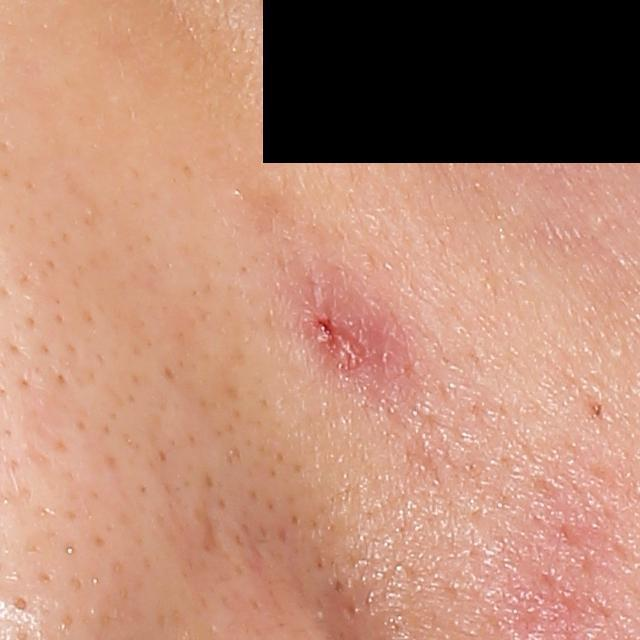atrophic_scar: (193, 502, 224, 557)
comedo: (12, 593, 33, 616)
papule: (294, 279, 382, 376)
